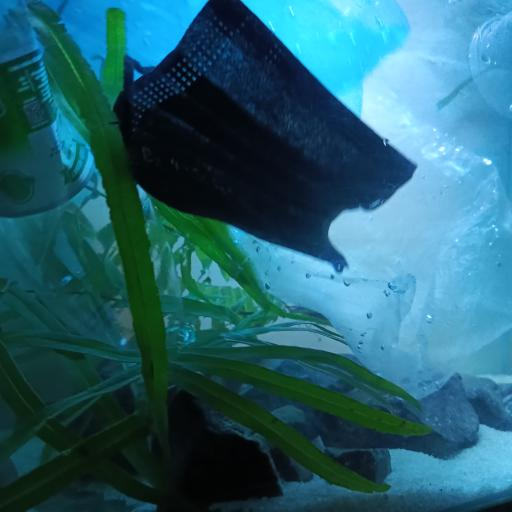mask: (117, 0, 416, 274)
plastic_bag: (257, 113, 512, 396), (53, 0, 412, 127)
plastic_bottle: (0, 2, 152, 367)
plastic_cup: (465, 15, 512, 114)
